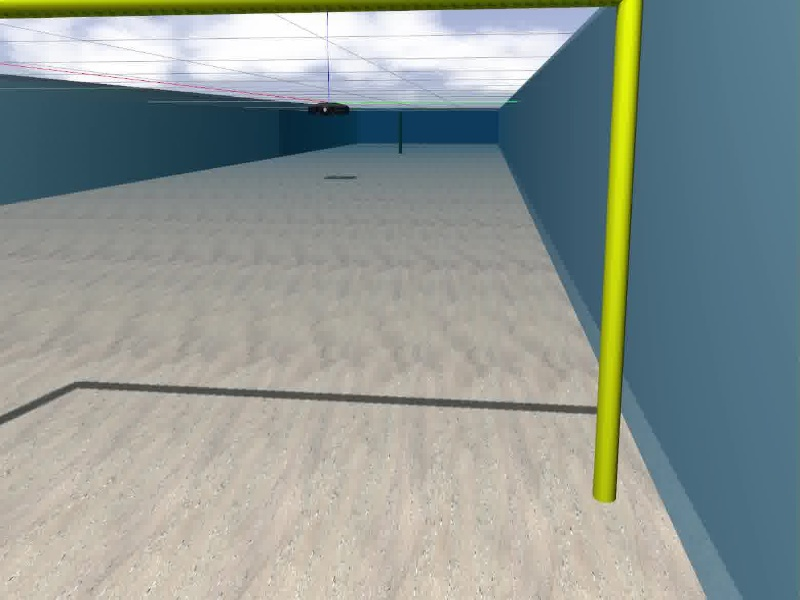gate: (1, 2, 636, 504)
